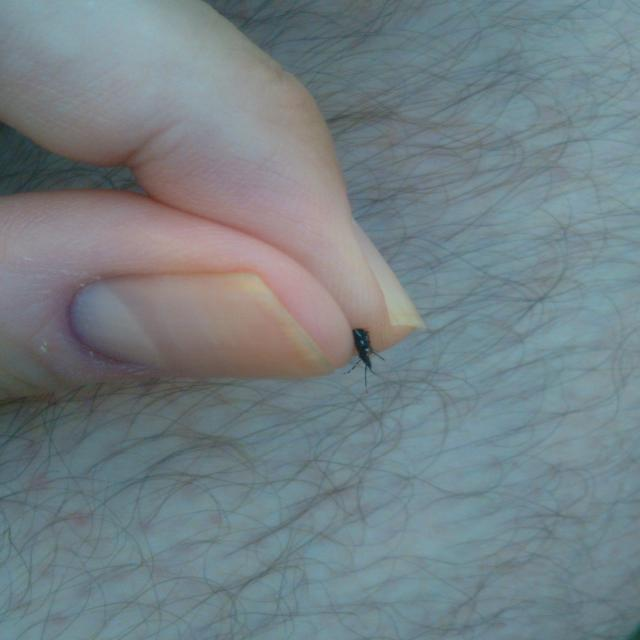albopictus: (336, 324, 391, 384)
